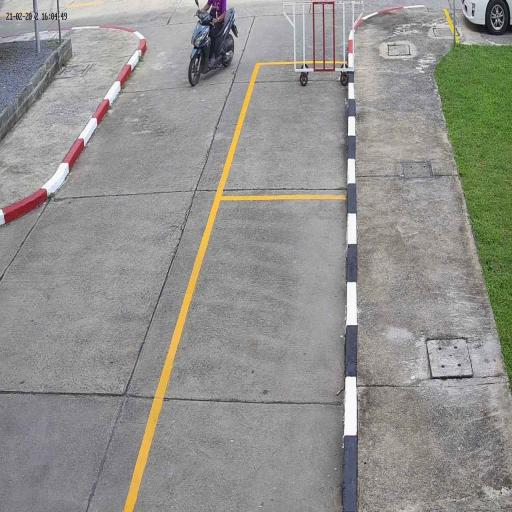motorcycle: (187, 8, 238, 87)
